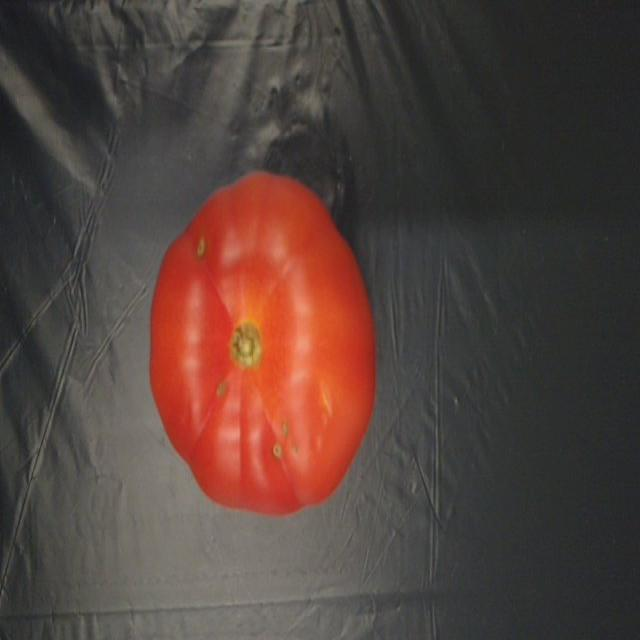kirmizi: (112, 148, 410, 538)
